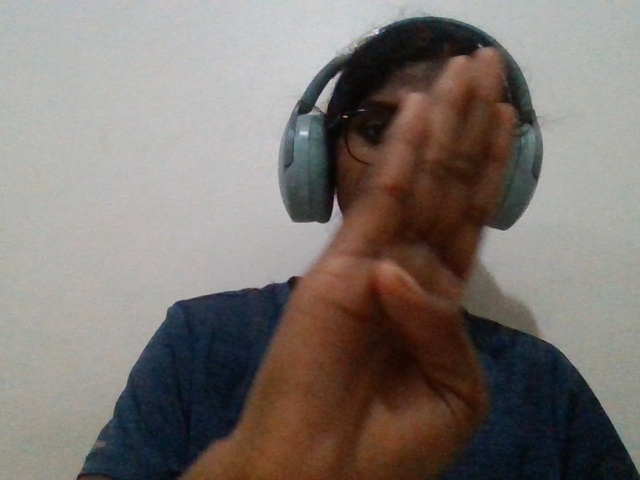B: (206, 22, 535, 480)
